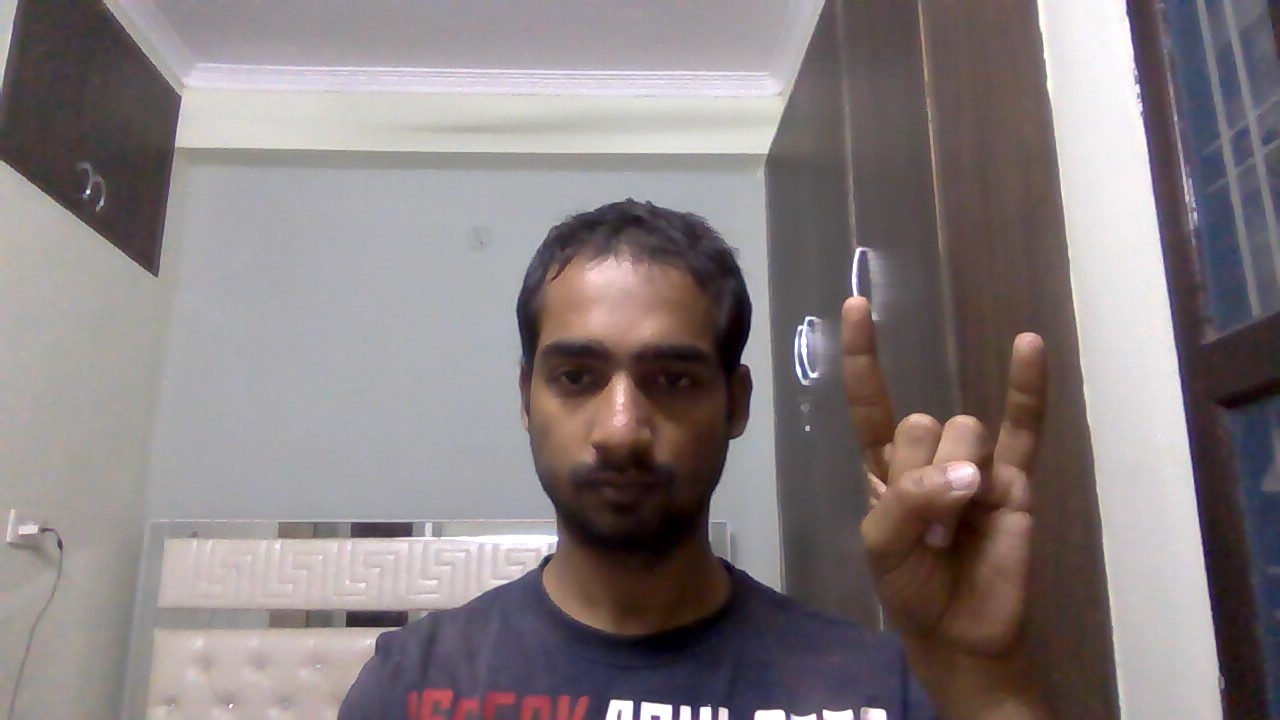Select All: (815, 283, 1067, 653)
